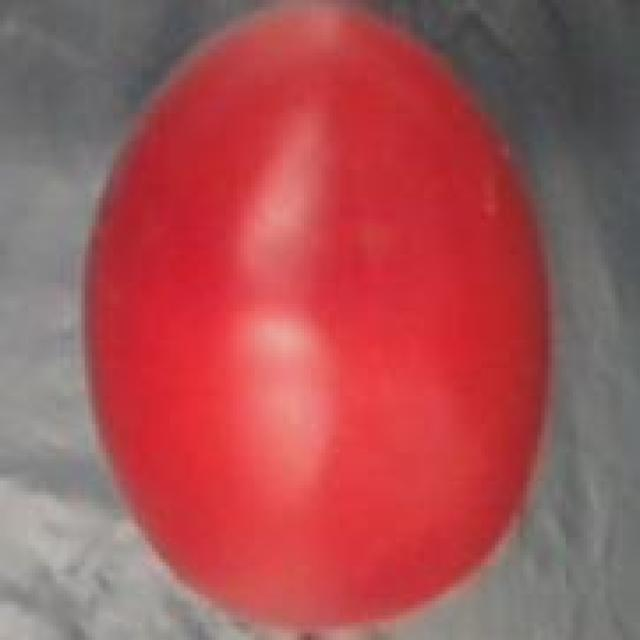ripe tomato: (71, 3, 573, 640)
